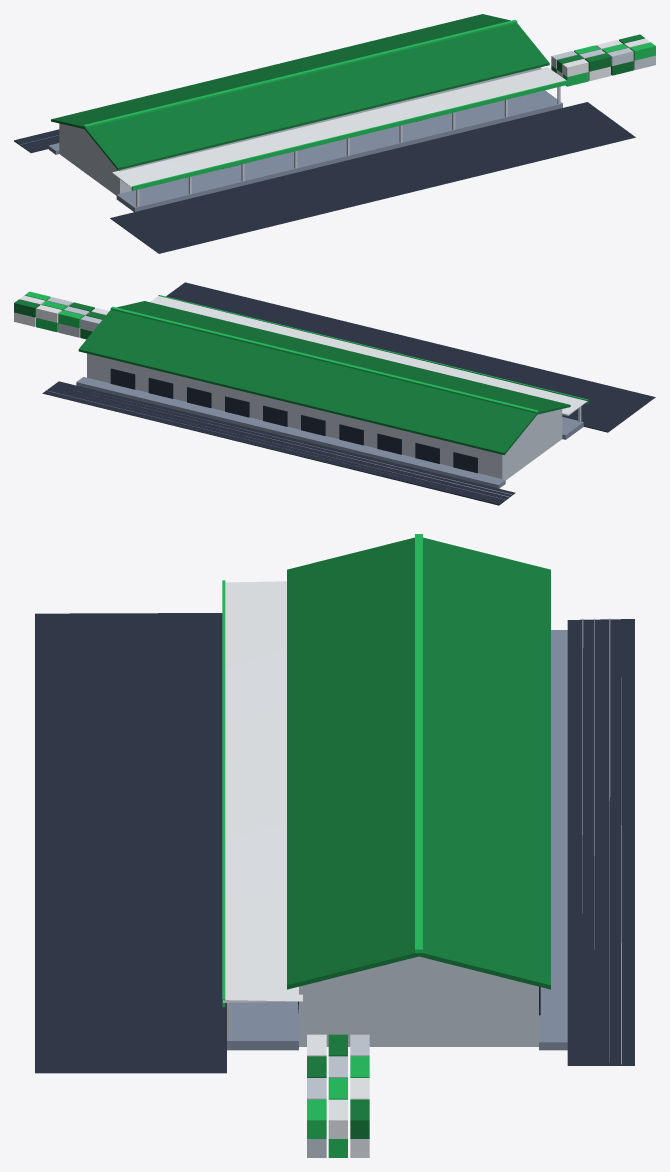
Rendered from terminal.glb.
The picture shows the model from 3 angles, top to bottom: view 1: azimuth 30°, elevation 25°; view 2: azimuth 150°, elevation 25°; view 3: azimuth 270°, elevation 25°; orthographic projection. The views are drawn at different scales.
Parts seen in each view (by area): view 1: terminal; view 2: terminal; view 3: terminal.
Boxes of the visible parts, x1,y1,x2,y2 form: terminal: (14, 14, 655, 253); terminal: (14, 282, 655, 505); terminal: (35, 534, 634, 1157).
Size of the model in its own units: 161 by 14.1 by 75.
1 material, 1 textured.
